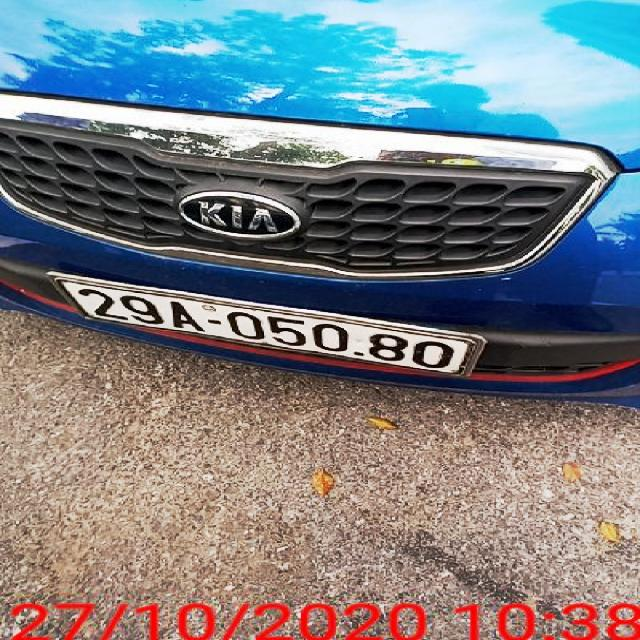license_plate: (49, 274, 486, 382)
